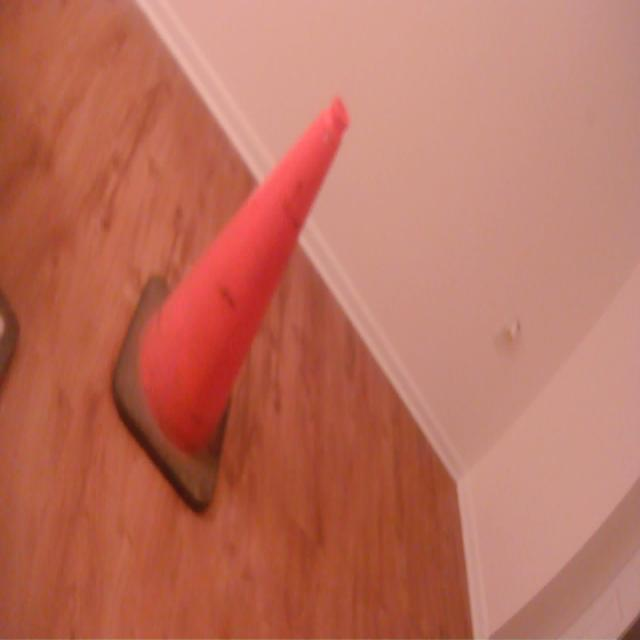traffic cone: (105, 91, 357, 522)
